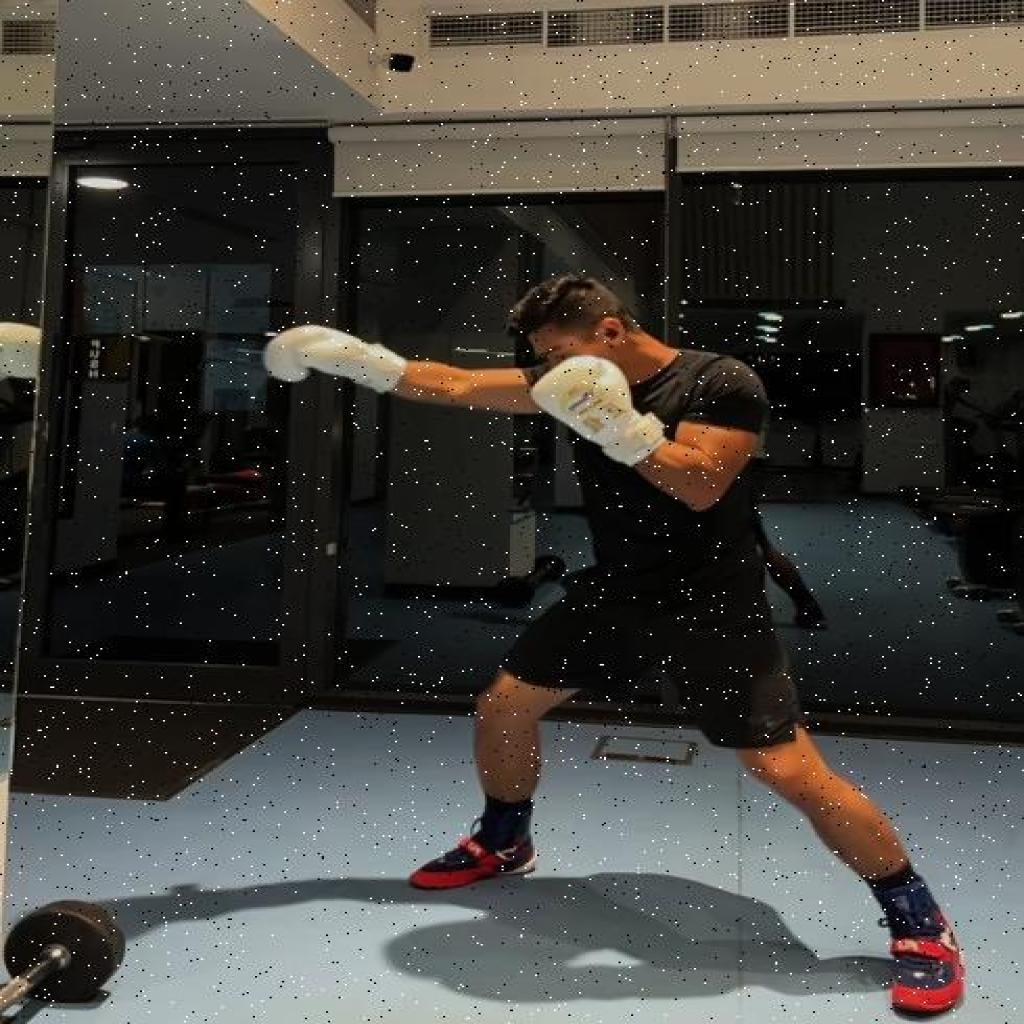jab: (253, 269, 970, 1024)
